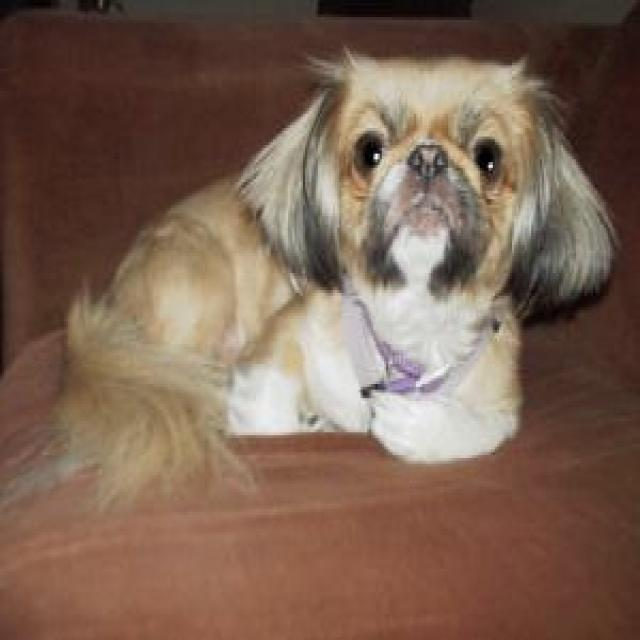pekinese: (4, 40, 620, 526)
